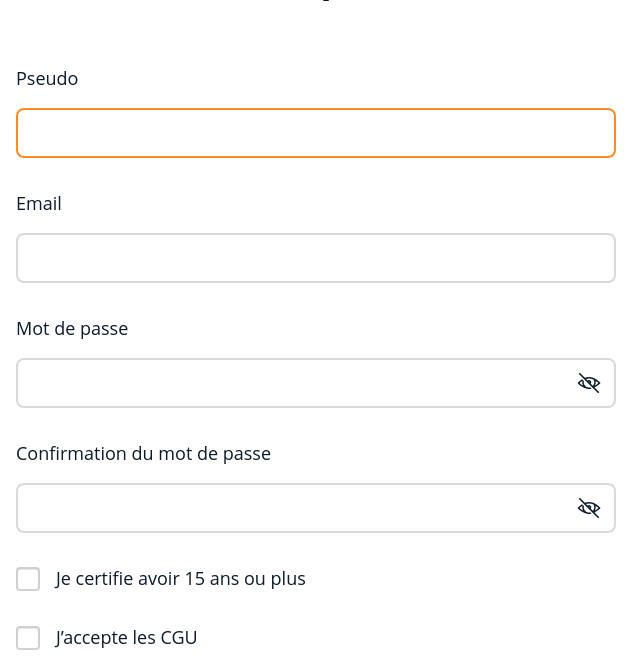
it: Signup Form › should not submit if the password is empty
Type "John" into the field labelled "Pseudo".
click(316, 133); type("John")  # box [16, 108, 616, 158]
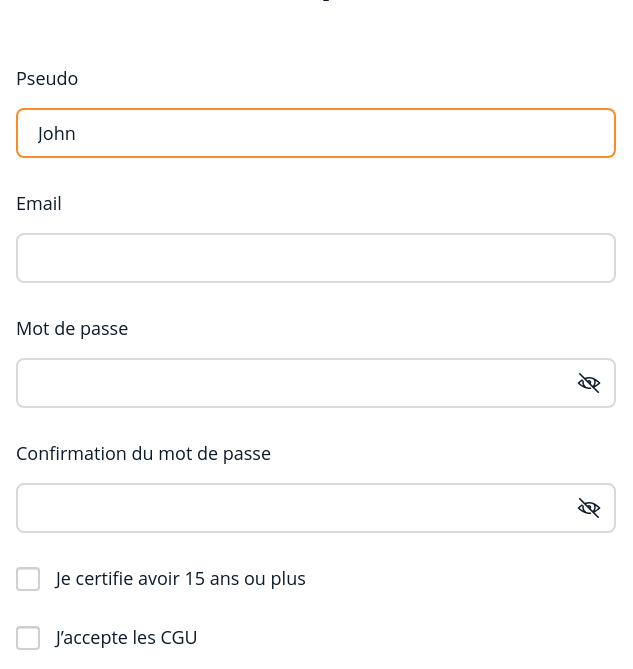
Type "john.doe@gmail.com" into the field labelled "Email".
click(316, 258); type("john.doe@gmail.com")  # box [16, 233, 616, 283]
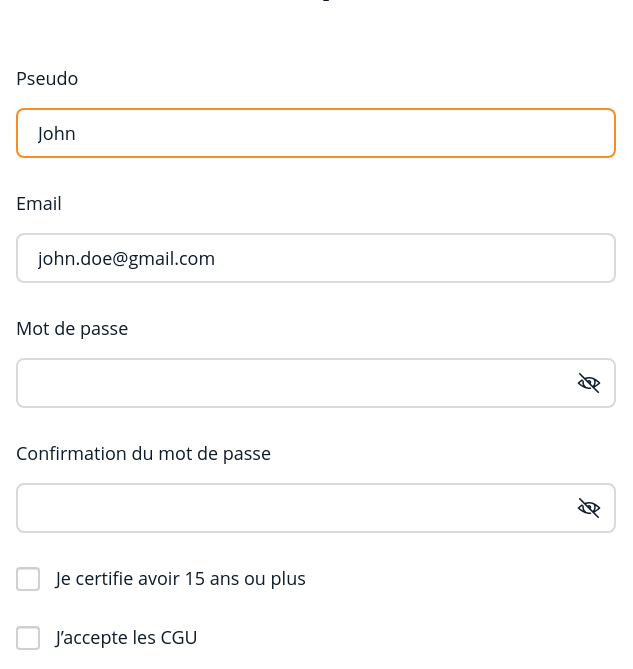
Clear the password field labelled "Mot de passe" at {"x": 316, "y": 383}, box [16, 358, 616, 408]
(page scrolled)
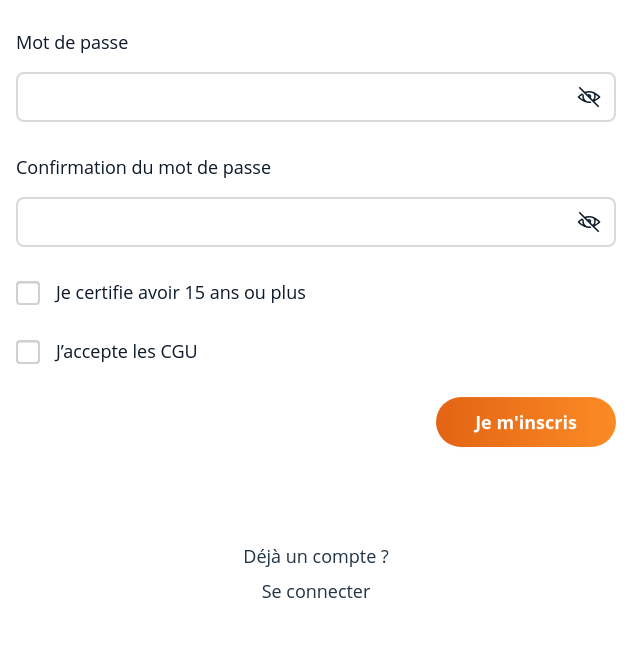
Click the button "Je m'inscris".
click(526, 422)  # box [436, 397, 616, 447]
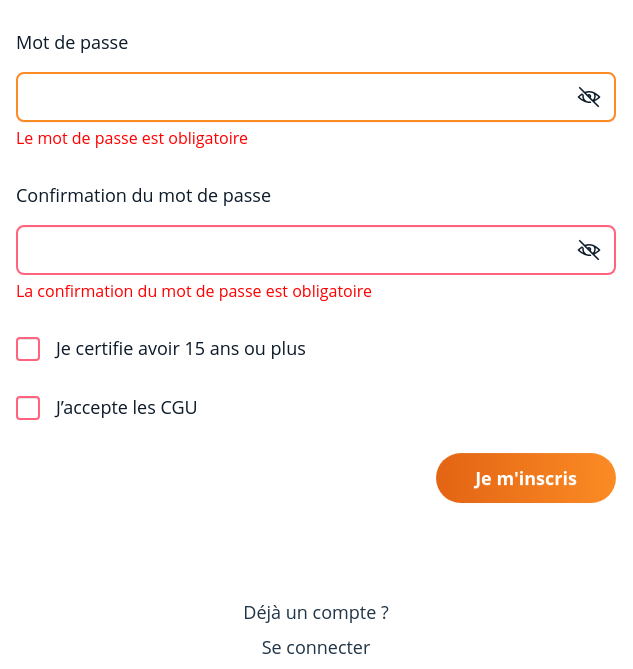
Expected: the message "Le mot de passe est obligatoire" is shown, [16, 127, 248, 149]
